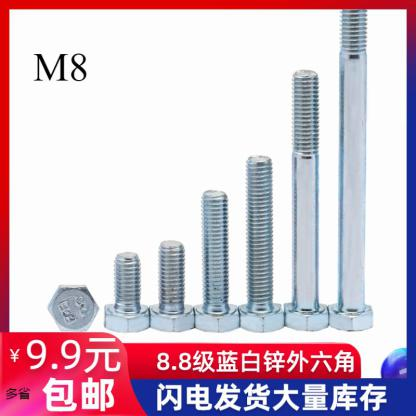FOD: (326, 6, 376, 332), (284, 69, 330, 330), (230, 154, 286, 334), (191, 190, 243, 333), (148, 241, 197, 335), (103, 248, 150, 333), (45, 282, 101, 334)
